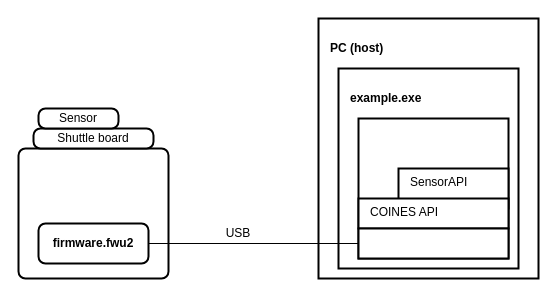
The diagram is 556 pixels wide and 296 high, and some of its shapes have lost their labels. Here are the shapes that lost their labels. From the top down, the box of each, then its label:
(357, 117, 509, 259): example.c
(17, 147, 169, 279): Application Board
(357, 227, 509, 259): WinUSB, libUSB, BST
